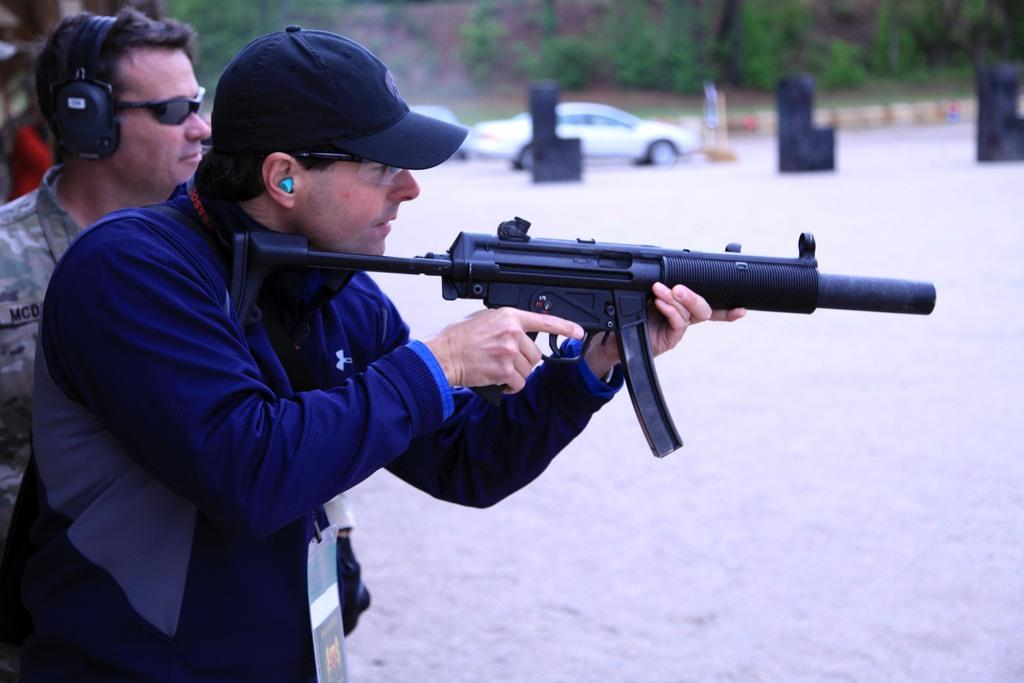Rifle: (231, 219, 935, 458)
